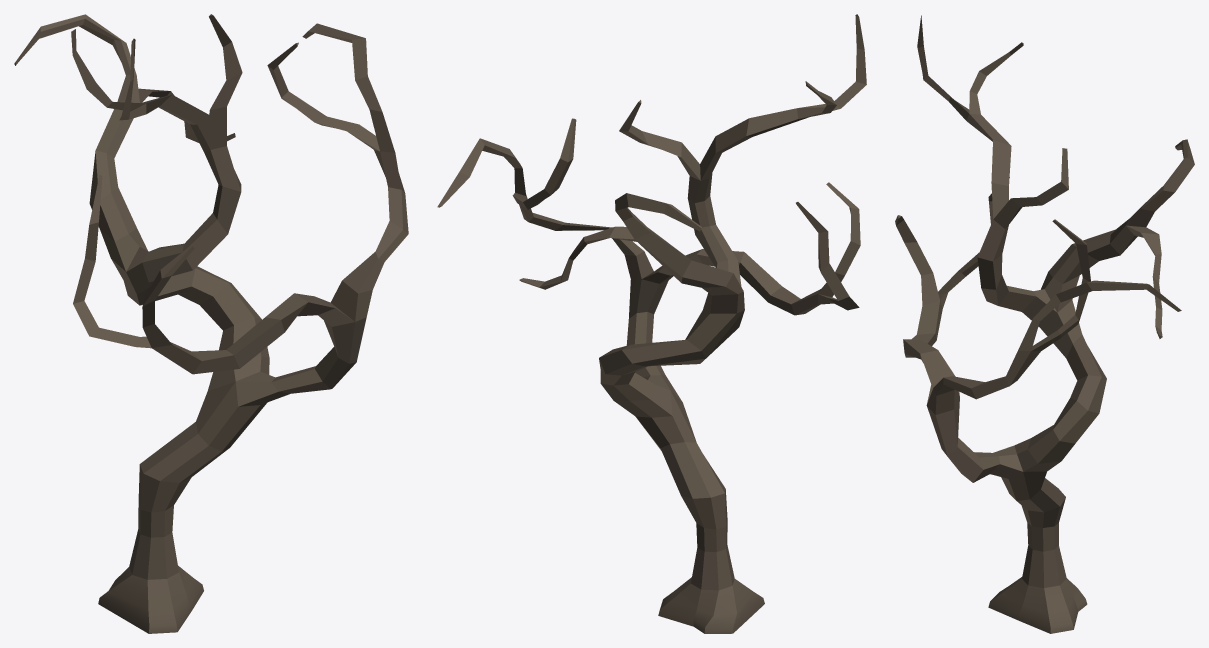
The model's file is SM_Env_Tree_Twisted_01.fbx.
The picture shows the model from 3 angles, left to right: view 1: azimuth 30°, elevation 25°; view 2: azimuth 150°, elevation 25°; view 3: azimuth 270°, elevation 25°; orthographic projection. The views are drawn at different scales.
Visible parts, largest first — view 1: SM_Env_Tree_Twisted_01; view 2: SM_Env_Tree_Twisted_01; view 3: SM_Env_Tree_Twisted_01.
Boxes of the visible parts, x1,y1,x2,y2 form: SM_Env_Tree_Twisted_01: (14,14,408,633); SM_Env_Tree_Twisted_01: (437,14,866,633); SM_Env_Tree_Twisted_01: (895,15,1194,633).
Bounding box in the file's own units: 3.24 × 5.78 × 2.74.
